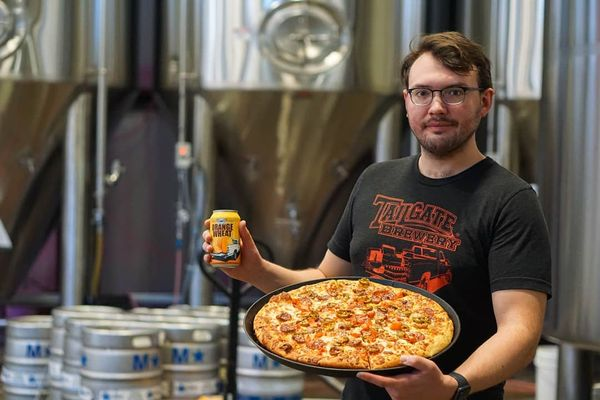sandwich: (253, 277, 453, 370)
